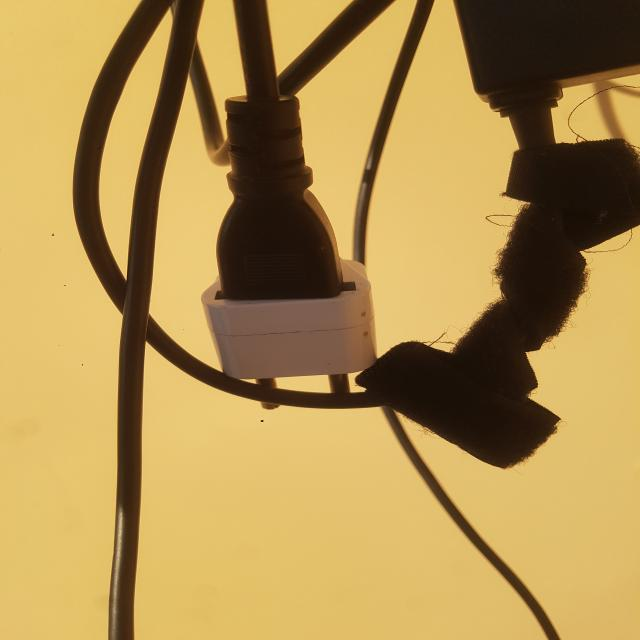electronic: (141, 18, 442, 463)
